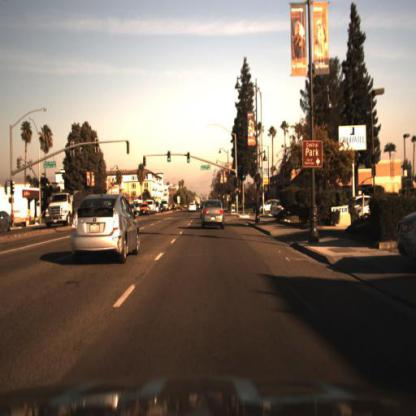car: (61, 187, 141, 269), (202, 196, 227, 230), (187, 200, 199, 216)
trafficLight: (142, 154, 148, 170)
trafficLight-Green: (245, 164, 253, 184), (166, 148, 173, 164), (188, 145, 193, 163)
truck: (44, 193, 84, 226)
